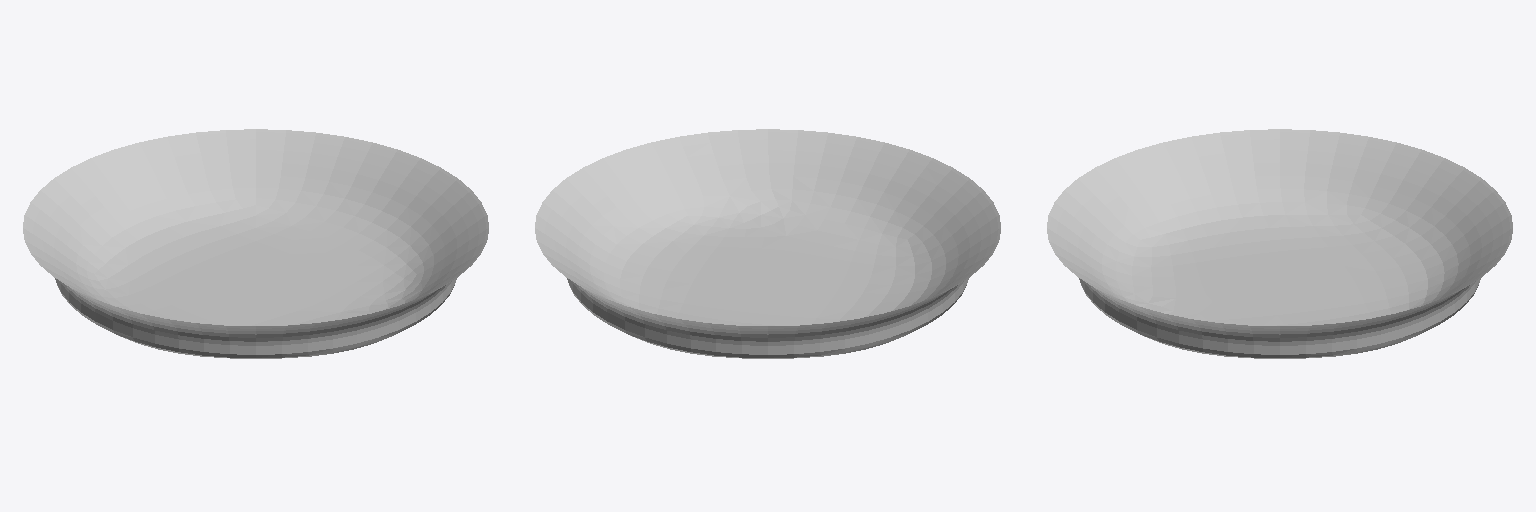
Rendered from Plato.obj.
3 renders of one model, left to right at view 1: azimuth 30°, elevation 25°; view 2: azimuth 150°, elevation 25°; view 3: azimuth 270°, elevation 25°, orthographic.
Parts seen in each view (by area): view 1: Plato; view 2: Plato; view 3: Plato.
Part boxes in pixels (bbox=[...]): Plato: bbox=[23, 129, 488, 358]; Plato: bbox=[535, 129, 1000, 358]; Plato: bbox=[1047, 129, 1512, 358].
Size of the model in its own units: 95.82 by 12.76 by 95.82.